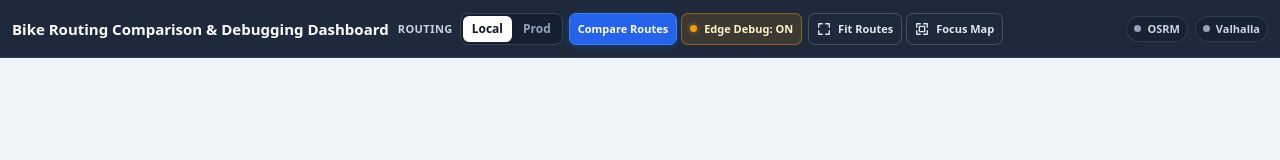
Scenario: routing target › defaults to Local and toggling target sends no request or mutates inputs/results
Click the button "Prod" at (537, 28), box [514,16,560,42]
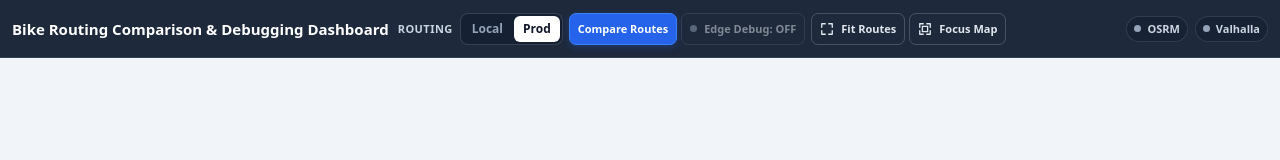
Check: the button "Edge Debug: OFF" is disabled, box [681,12,805,44]
Click the button "Local" at (487, 28), box [463,16,512,42]
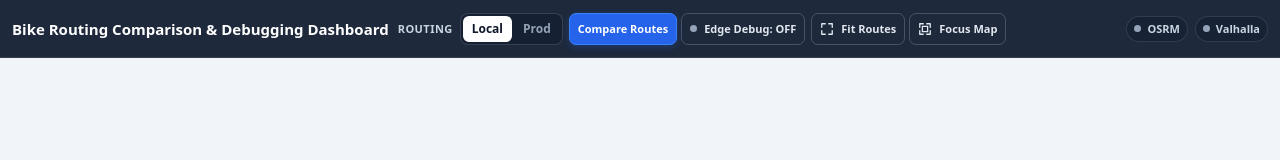
Check: the button "Edge Debug: OFF" is enabled, box [681,12,805,44]
